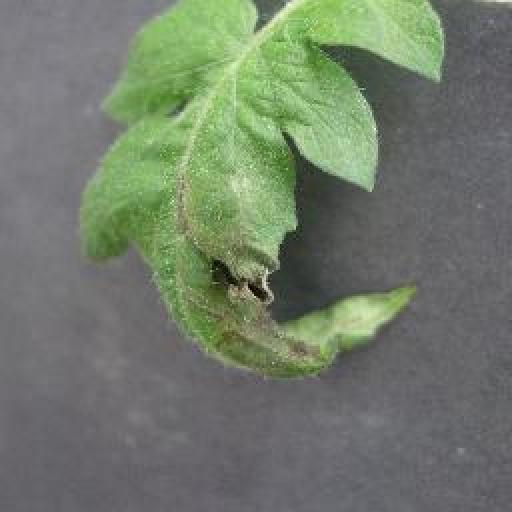disease_tomato: (82, 0, 446, 383)
